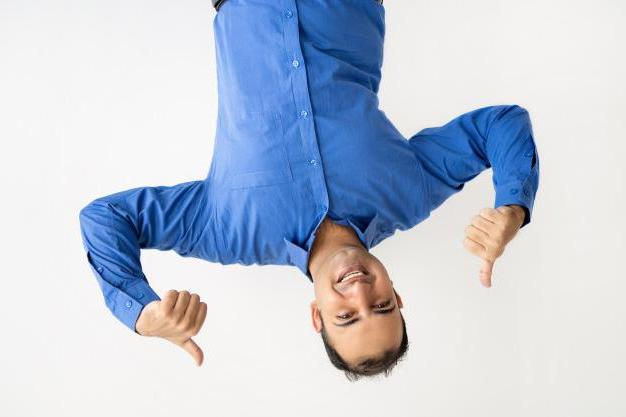thumbsdown: (463, 207, 510, 288), (162, 290, 208, 367)
